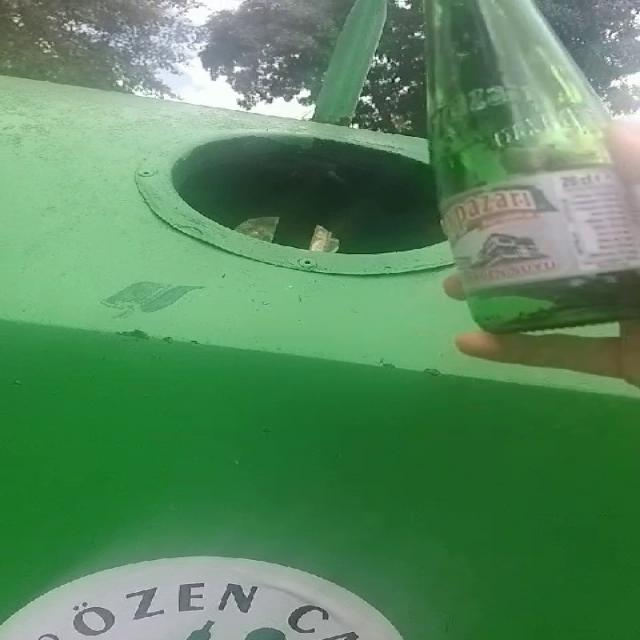glass: (429, 0, 640, 332)
